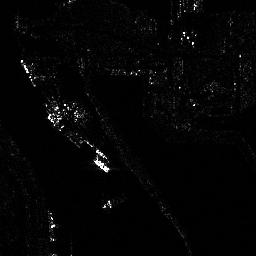ship: (93, 158, 110, 173)
